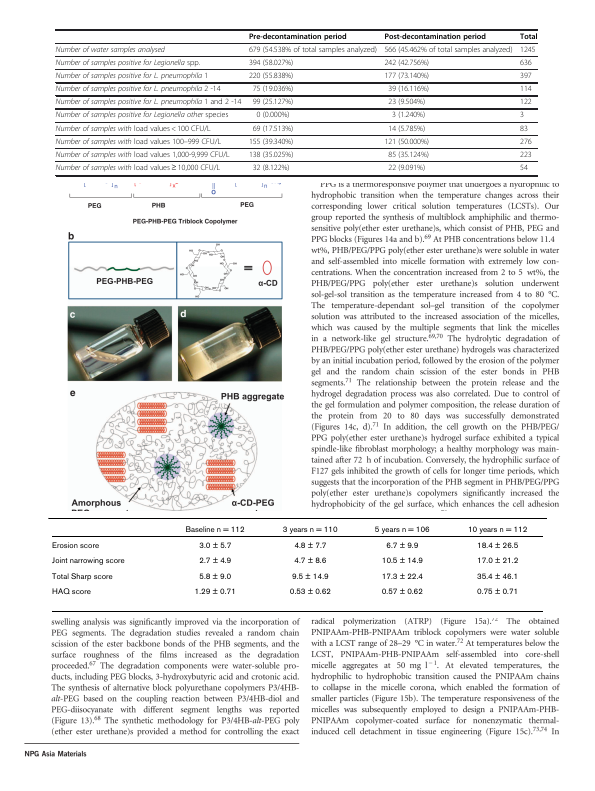borderless: (55, 28, 537, 175), (47, 516, 543, 611)
cell: (55, 150, 231, 160), (55, 98, 242, 107), (55, 137, 222, 147), (55, 84, 221, 94), (55, 163, 221, 173), (55, 111, 229, 120), (55, 71, 209, 81), (55, 58, 201, 68), (55, 124, 211, 133), (248, 45, 378, 55), (383, 45, 513, 55), (55, 45, 166, 55), (383, 32, 487, 41), (248, 32, 347, 41), (50, 557, 125, 567), (50, 572, 113, 582), (466, 525, 528, 535), (184, 525, 245, 535), (281, 525, 338, 535), (373, 525, 430, 535), (50, 541, 99, 551), (383, 58, 430, 68), (383, 71, 430, 81), (383, 137, 430, 147), (248, 58, 294, 68), (248, 71, 294, 81), (248, 137, 294, 147), (248, 150, 294, 160), (475, 541, 519, 551), (475, 557, 519, 567), (475, 572, 519, 582), (475, 588, 519, 598), (380, 557, 423, 567), (380, 572, 423, 582), (193, 588, 236, 598), (288, 588, 331, 598), (380, 588, 423, 598), (387, 84, 430, 94), (387, 150, 430, 160), (252, 84, 294, 94), (50, 588, 91, 598), (290, 572, 329, 582), (387, 163, 426, 173), (252, 163, 290, 173), (252, 98, 294, 107), (252, 124, 294, 133), (387, 98, 426, 107), (387, 124, 426, 133), (198, 541, 232, 551), (293, 541, 327, 551), (385, 541, 419, 551), (198, 557, 232, 567), (293, 557, 327, 567), (198, 572, 232, 582), (255, 111, 290, 120), (391, 111, 426, 120), (519, 32, 538, 41), (519, 45, 536, 55), (519, 58, 533, 68), (519, 71, 533, 81), (519, 84, 533, 94), (519, 137, 533, 147), (519, 150, 533, 160), (519, 98, 533, 107), (519, 163, 529, 173), (519, 124, 529, 133), (519, 111, 525, 120)
